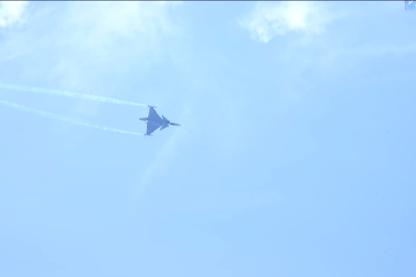JAS39: (138, 105, 182, 136)
